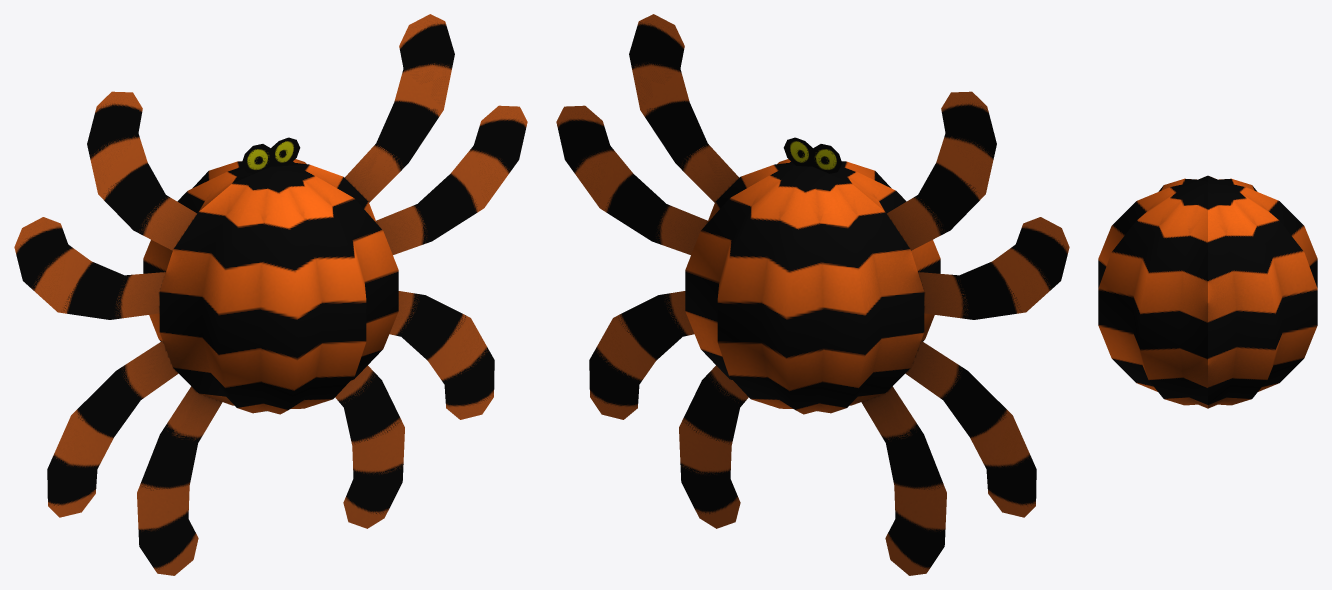
The model's file is HW_SpiderOrnamentOrange.fbx.
The picture shows the model from 3 angles, left to right: view 1: azimuth 30°, elevation 25°; view 2: azimuth 150°, elevation 25°; view 3: azimuth 270°, elevation 25°; orthographic projection. The views are drawn at different scales.
Parts seen in each view (by area): view 1: HW_SpiderOrnamentOrange; view 2: HW_SpiderOrnamentOrange; view 3: HW_SpiderOrnamentOrange.
Part boxes in pixels (box(x1,y1,x2,y2)): HW_SpiderOrnamentOrange: box(14, 14, 527, 575); HW_SpiderOrnamentOrange: box(556, 14, 1069, 575); HW_SpiderOrnamentOrange: box(1098, 175, 1317, 408).
Size of the model in its own units: 0.4998 by 0.4649 by 0.206.
1 material, 1 textured.
